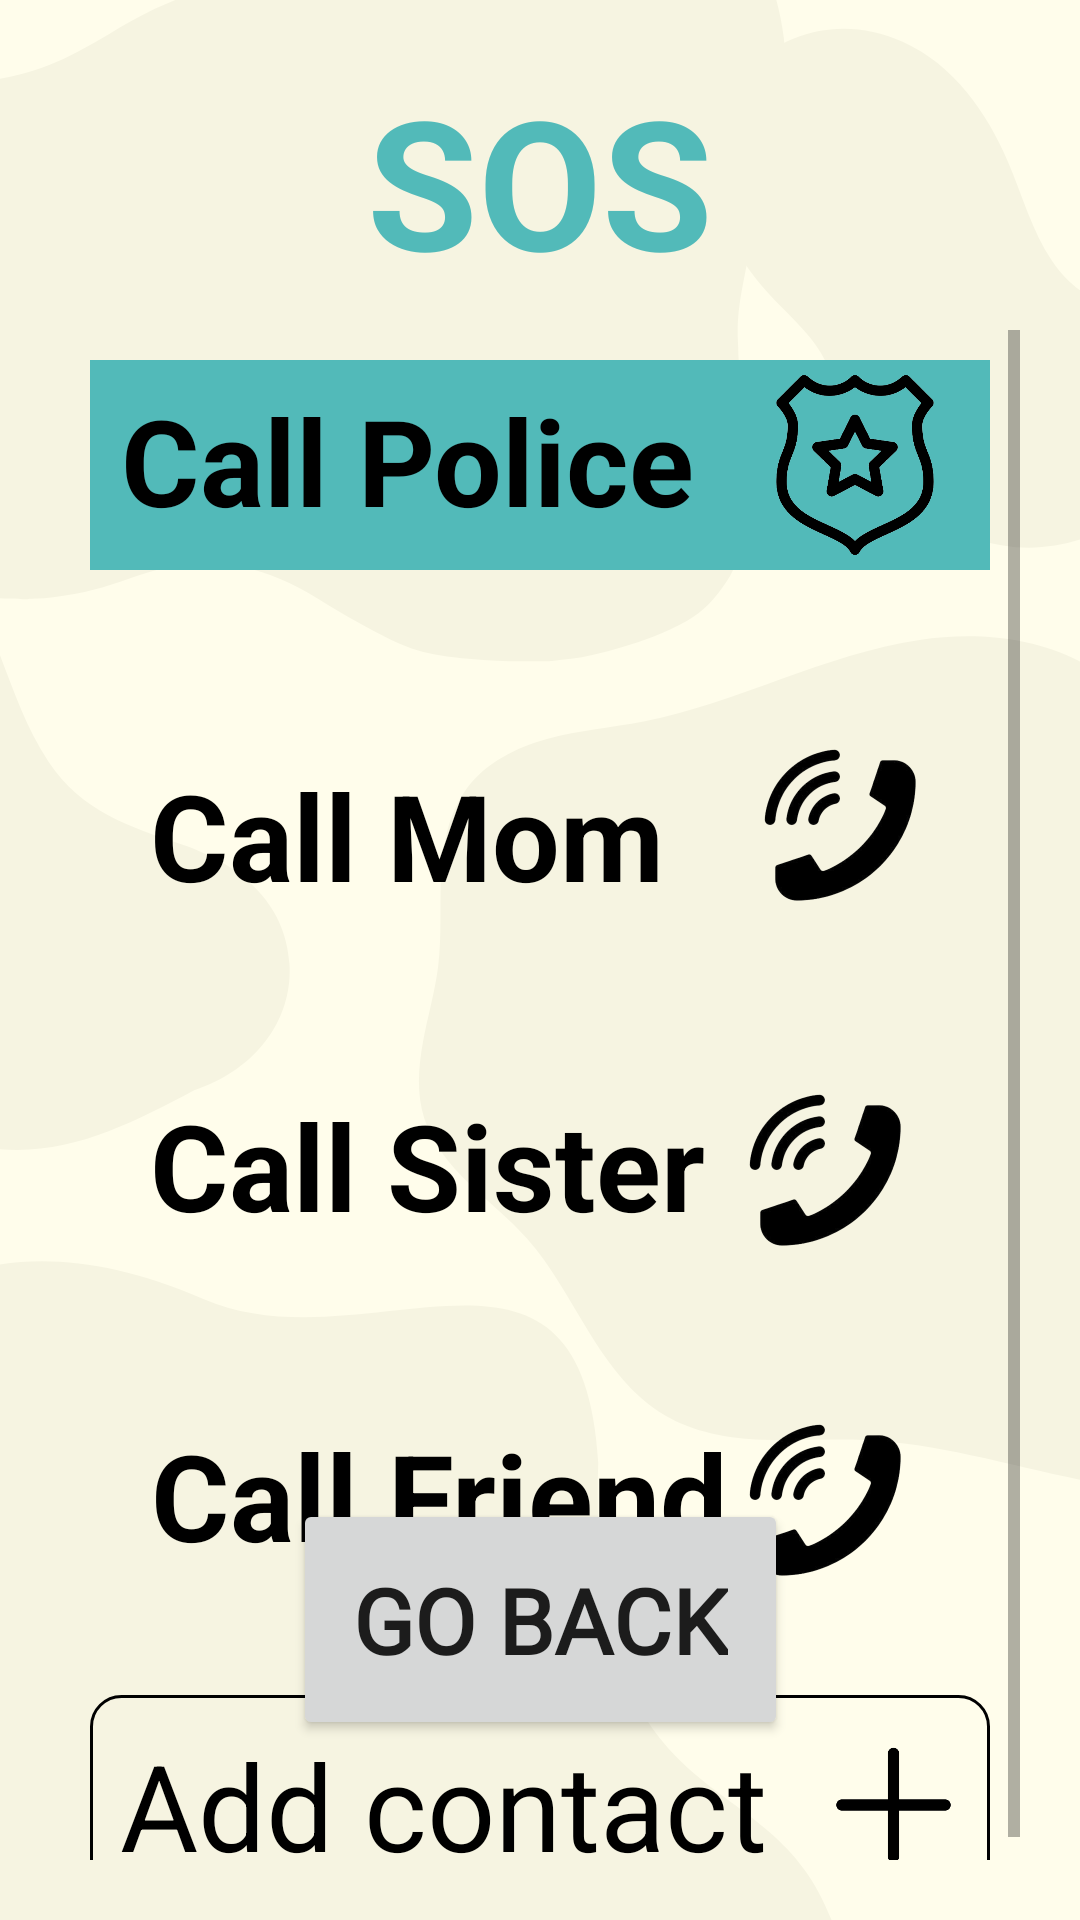

Screen size 1080*1920. Icon name, then its box in pixels as (left=x1, top=y1, right=x2, bottom=y2):
plus: (left=836, top=1748, right=951, bottom=1860)
